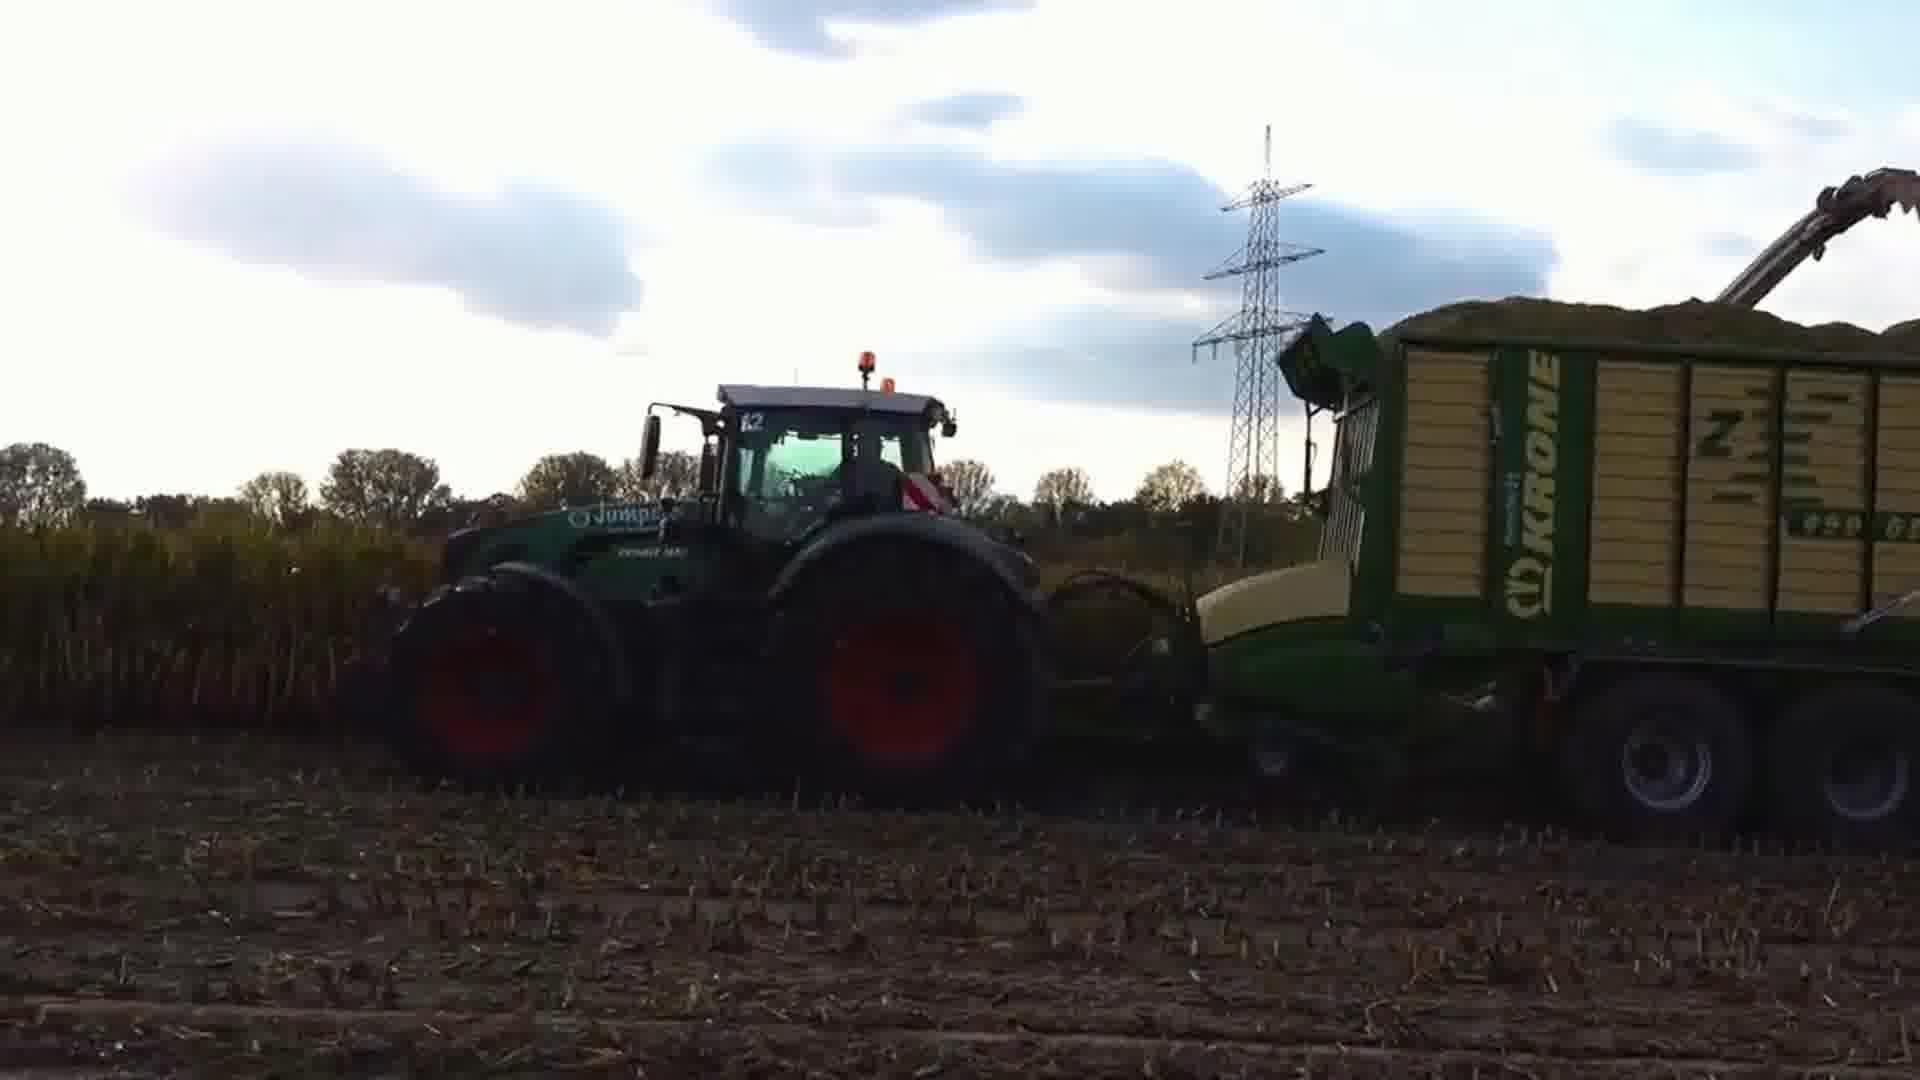tractor: (349, 345, 1069, 818)
trailer: (1114, 276, 1920, 864)
